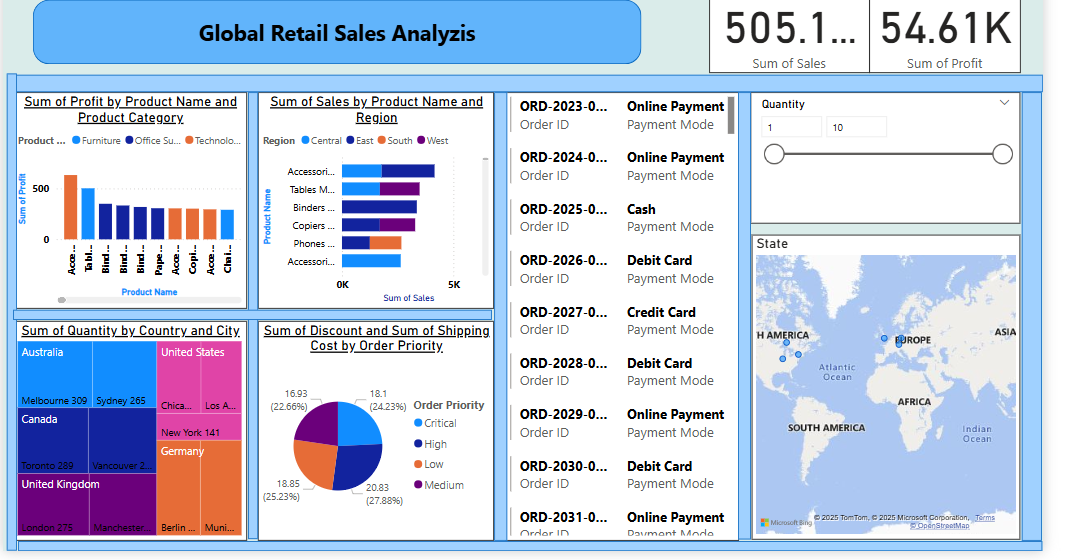

Layout of this report page (visuals, bound fields, positions):
{"tool":"powerbi","page":{"name":"Page 1","canvas":[1280,720],"ordinal":0},"visuals":[{"type":"columnChart","fields":{"Category":["Sheet1.Product Name"],"Y":["Sum(Sheet1.Profit)"],"Series":["Sheet1.Product Category"]},"box":[12.2,155.4,287.8,266.2],"z":0},{"type":"barChart","fields":{"Category":["Sheet1.Product Name"],"Y":["Sum(Sheet1.Sales)"],"Series":["Sheet1.Region"]},"box":[313.5,155.4,290.5,266.2],"z":1000},{"type":"card","fields":{"Values":["Sum(Sheet1.Profit)"]},"box":[1066.2,29.7,186.5,102.7],"z":2000},{"type":"treemap","fields":{"Group":["Sheet1.Country"],"Details":["Sheet1.City"],"Values":["Sum(Sheet1.Quantity)"]},"box":[12.2,436.5,287.8,270.3],"z":3000},{"type":"multiRowCard","fields":{"Values":["Sheet1.Order ID","Sheet1.Payment Mode"]},"box":[617.9,155.4,287.5,551.8],"z":4000},{"type":"card","fields":{"Values":["Sum(Sheet1.Sales)"]},"box":[868.9,29.7,197.3,102.7],"z":5000},{"type":"pieChart","fields":{"Series":["Sheet1.Order Priority"],"Y":["Sum(Sheet1.Discount)"]},"box":[313.5,436.5,290.5,270.3],"z":6000},{"type":"slicer","fields":{"Values":["Sheet1.Quantity"]},"box":[920,155.4,332.3,161.5],"z":7000},{"type":"map","fields":{"Category":["Sheet1.State"]},"box":[921.5,330.8,330.8,375.4],"z":8000},{"type":"shape","box":[12.5,133.9,1267.9,21.4],"z":9000},{"type":"shape","box":[5.4,132.1,12.5,587.5],"z":10000},{"type":"shape","box":[17.9,707.1,1260.7,12.5],"z":11000},{"type":"shape","box":[605.4,155.4,16.1,551.8],"z":12000},{"type":"shape","box":[1253.6,155.4,25,551.8],"z":13000},{"type":"shape","box":[905.4,155.4,16.1,550],"z":14000},{"type":"shape","box":[301.8,155.4,12.5,550],"z":15000},{"type":"shape","box":[12.5,423.2,589.3,12.5],"z":16000},{"type":"shape","box":[36.8,41.2,748.5,79.4],"z":17000}]}

Visuals, with their boxes in screenshot pixels (x1, y1, x2, y2):
columnChart - Sheet1.Product Name x Sum(Sheet1.Profit): bbox(15, 93, 245, 305)
barChart - Sheet1.Product Name x Sum(Sheet1.Sales): bbox(255, 93, 487, 305)
card - Sum(Sheet1.Profit): bbox(855, 0, 1003, 75)
treemap - Sheet1.Country x Sheet1.City: bbox(15, 317, 245, 532)
multiRowCard - Sheet1.Order ID x Sheet1.Payment Mode: bbox(498, 93, 727, 532)
card - Sum(Sheet1.Sales): bbox(698, 0, 855, 75)
pieChart - Sheet1.Order Priority x Sum(Sheet1.Discount): bbox(255, 317, 487, 532)
slicer - Sheet1.Quantity: bbox(738, 93, 1003, 222)
map - Sheet1.State: bbox(740, 233, 1003, 532)
shape: bbox(16, 76, 1026, 93)
shape: bbox(10, 74, 20, 542)
shape: bbox(20, 532, 1024, 542)
shape: bbox(488, 93, 501, 532)
shape: bbox(1004, 93, 1024, 532)
shape: bbox(727, 93, 740, 531)
shape: bbox(246, 93, 256, 531)
shape: bbox(16, 306, 485, 316)
shape: bbox(35, 2, 631, 65)
